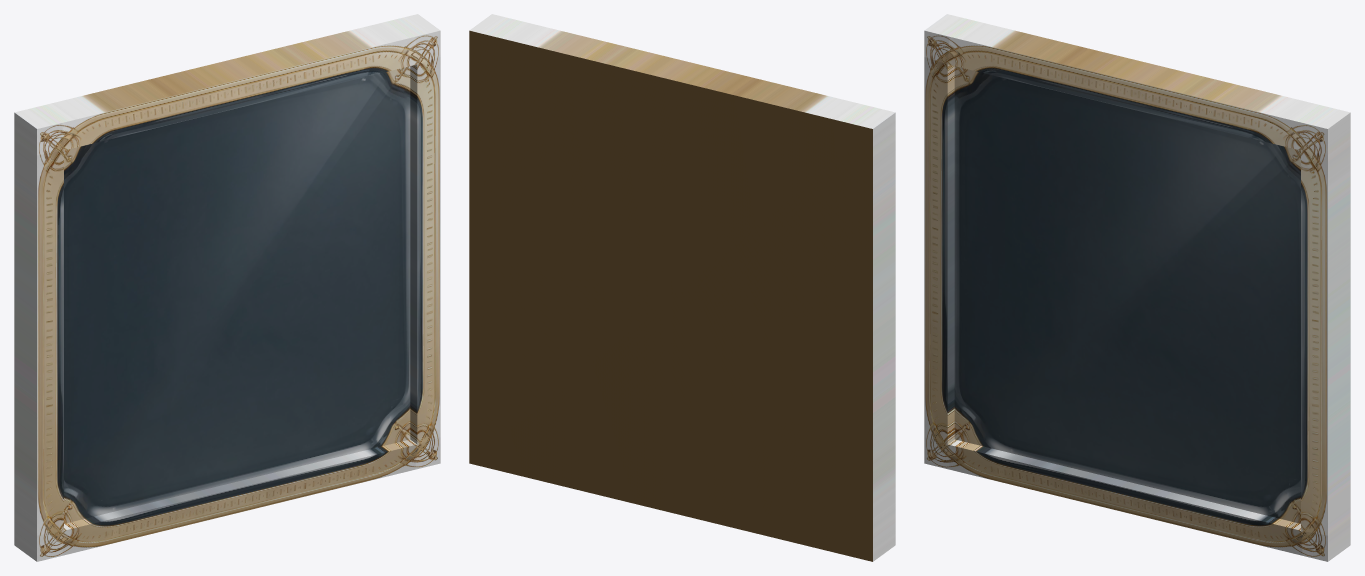
Rendered from panel_build.glb.
3 renders of one model, left to right at view 1: azimuth 30°, elevation 25°; view 2: azimuth 150°, elevation 25°; view 3: azimuth 330°, elevation 25°, orthographic.
Visible parts, largest first — view 1: panel_build; view 2: panel_build; view 3: panel_build.
Boxes of the visible parts, x1,y1,x2,y2 form: panel_build: (14, 14, 440, 561); panel_build: (469, 14, 895, 561); panel_build: (924, 14, 1350, 561).
Bounding box in the file's own units: 0.4 × 0.41 × 0.042.
Materials: 1 (1 with a texture image).
